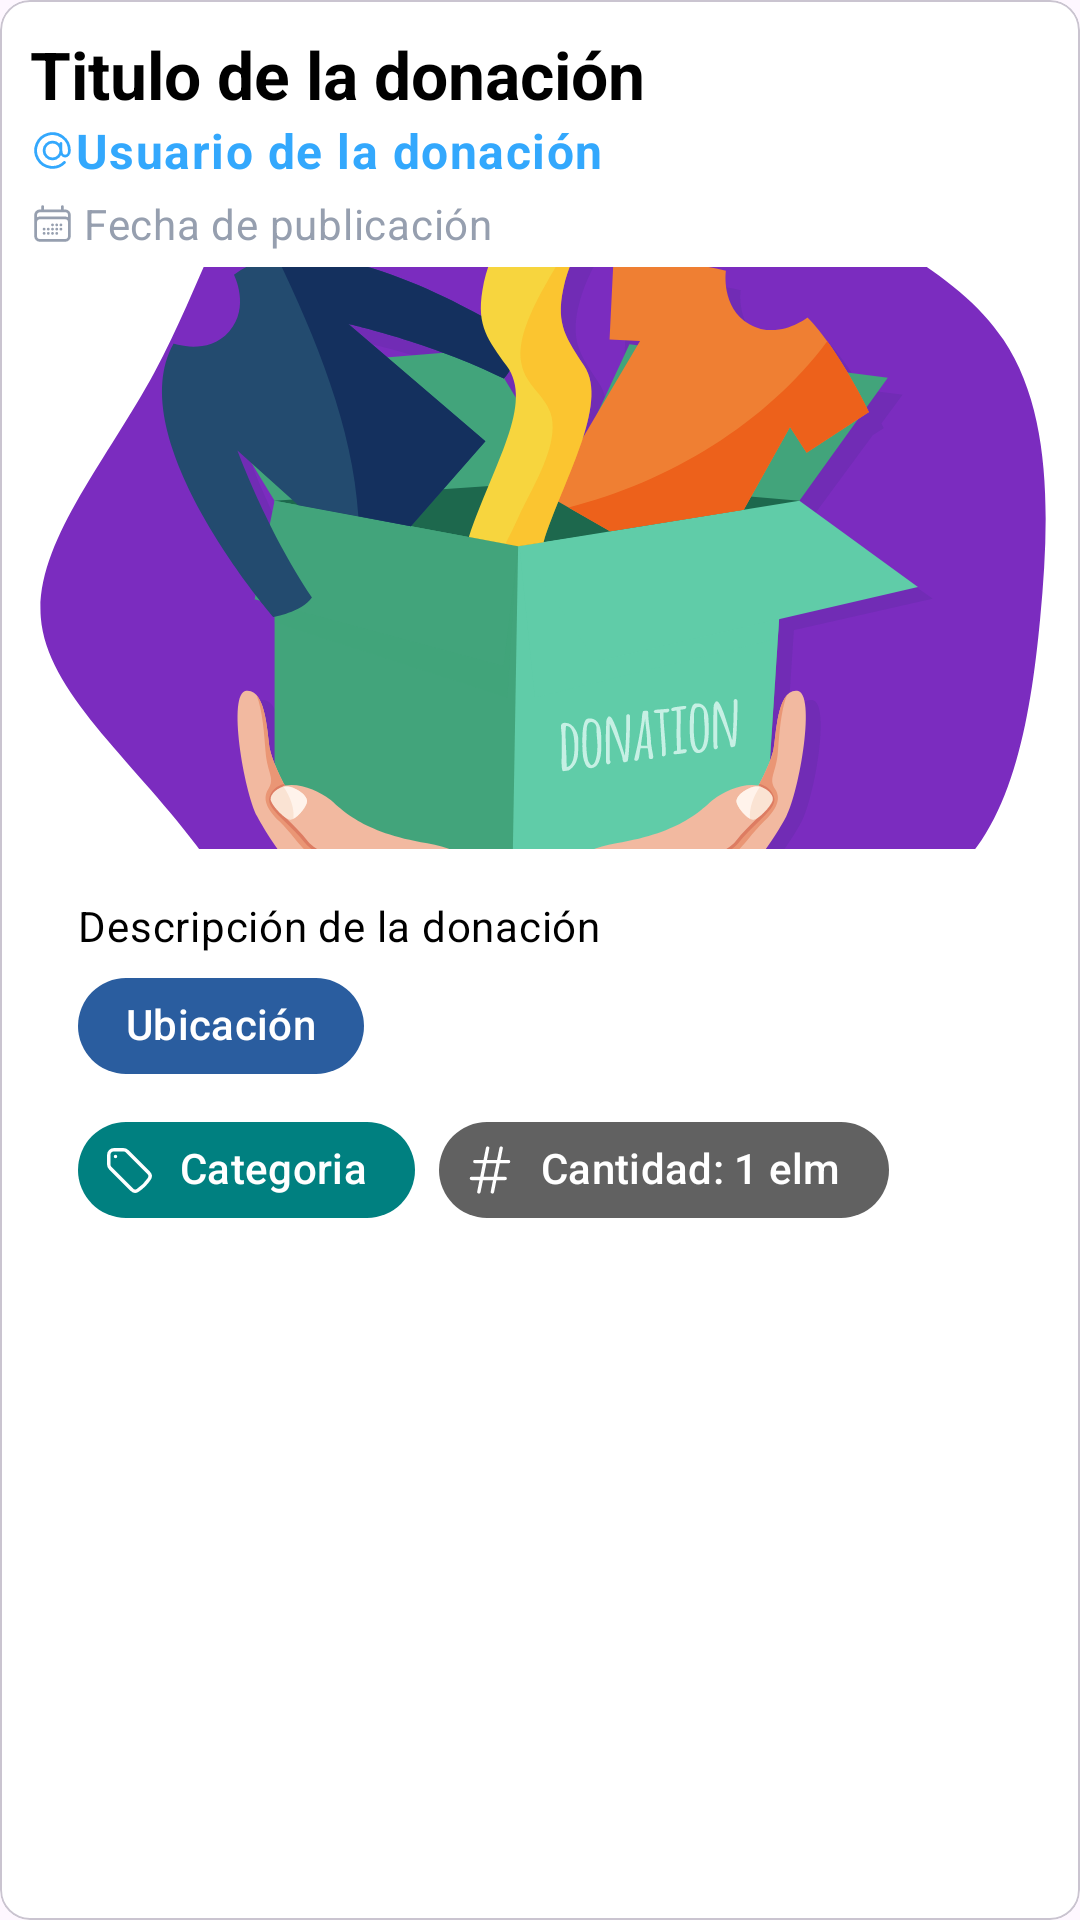

Screen size 1080px x 1920px. Icon name, then its center in pixels as [x,y]:
calendar: [52,223]
